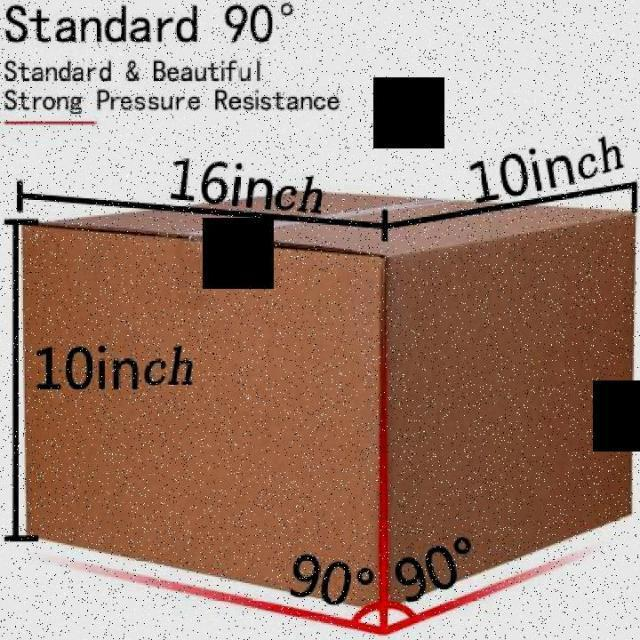box: (9, 182, 636, 616)
